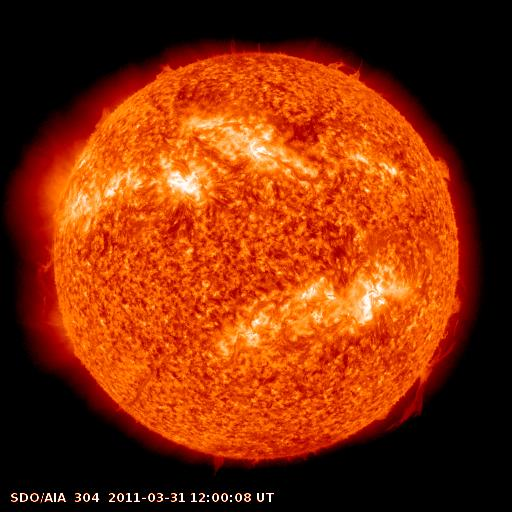prominence: (379, 267, 473, 435), (10, 221, 68, 330), (317, 49, 372, 87), (85, 98, 128, 138), (198, 444, 241, 479), (426, 145, 458, 191), (148, 54, 185, 84)
